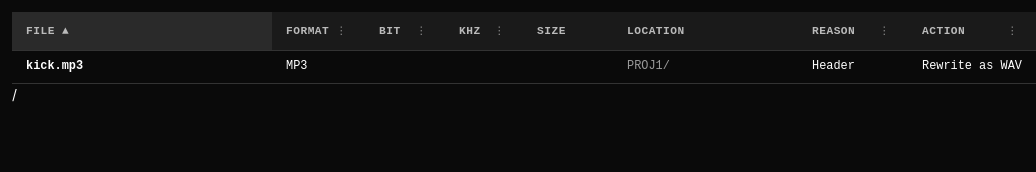
PoolFilesTable - row context menu › "Go to project" navigates to the owning project, name-and-path-encoded
Right-click the text "kick.mp3" at (524, 67), box [12,50,1035,83]
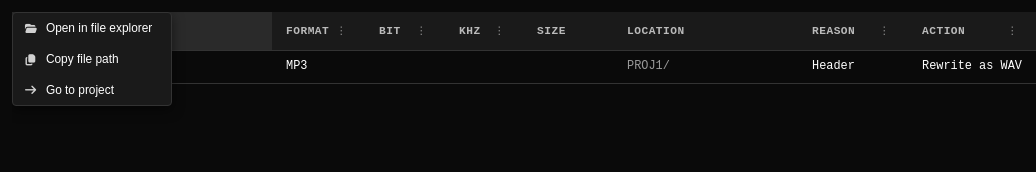
Click the button "Go to project" at (92, 90), box [13,75,171,105]
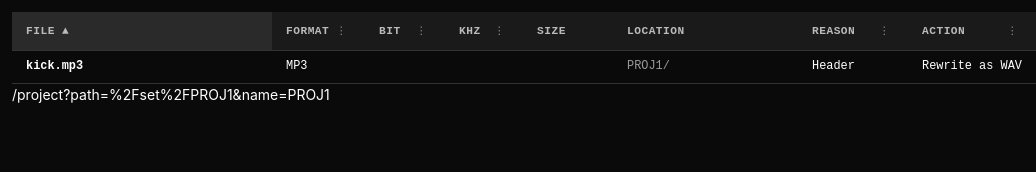
Expected: the text with test id "location" reads "/project?path=%2Fset%2FPROJ1&name=PROJ1", [12,86,330,103]
